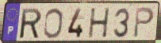3: (112, 7, 131, 39)
4: (66, 8, 84, 40)
H: (87, 7, 111, 40)
O: (42, 7, 64, 40)
P: (132, 7, 155, 40)
R: (19, 7, 43, 40)
